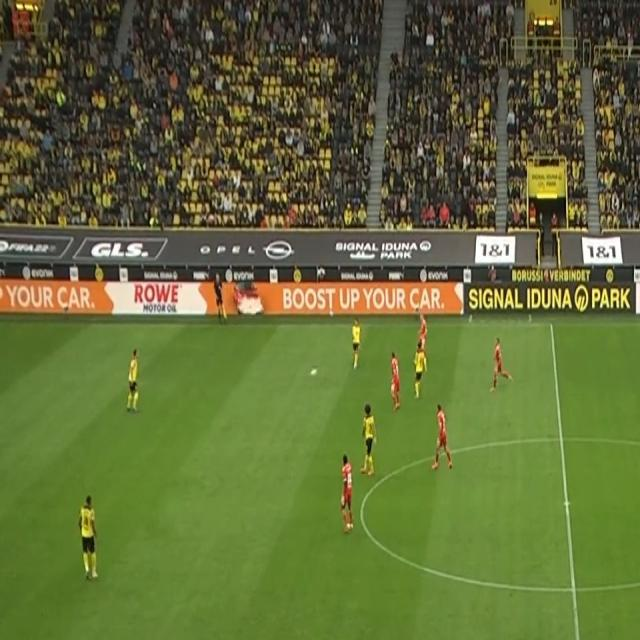ball: (310, 366, 318, 377)
